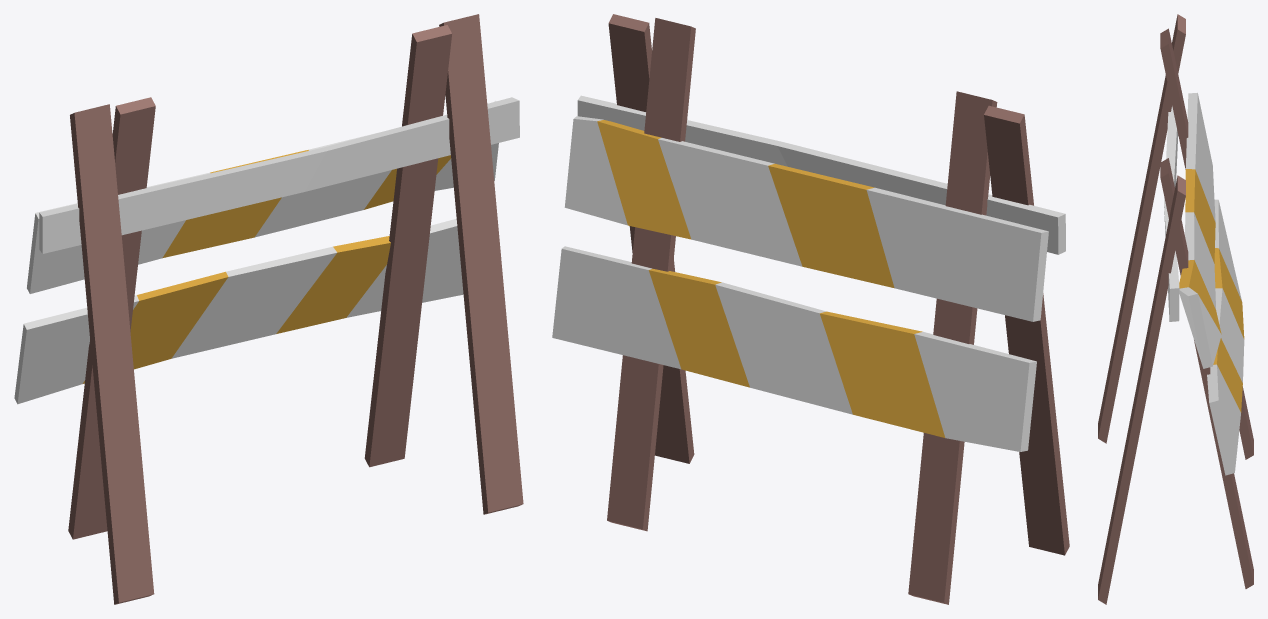
File: working_sign.glb
3 renders of one model, left to right at view 1: azimuth 30°, elevation 25°; view 2: azimuth 150°, elevation 25°; view 3: azimuth 270°, elevation 25°, orthographic. The views are drawn at different scales.
Parts seen in each view (by area): view 1: Plane.005; view 2: Plane.005; view 3: Plane.005.
Part boxes in pixels (left/top/right/bottom): Plane.005: left=14, top=14, right=523, bottom=604; Plane.005: left=552, top=14, right=1069, bottom=604; Plane.005: left=1098, top=14, right=1253, bottom=604.
Size of the model in its own units: 2.05 by 1.91 by 0.6494.
